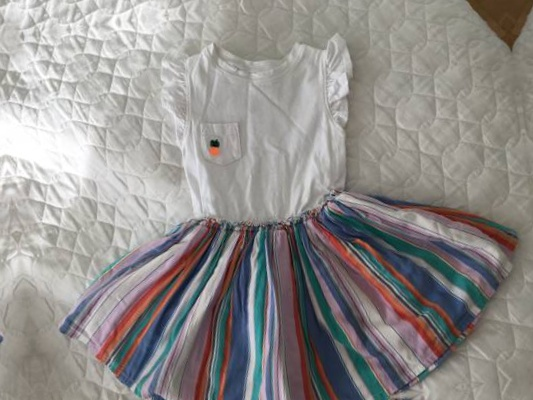Dress: (9, 2, 533, 400), (0, 76, 30, 400), (65, 382, 533, 400), (0, 0, 471, 6), (528, 0, 533, 364)
